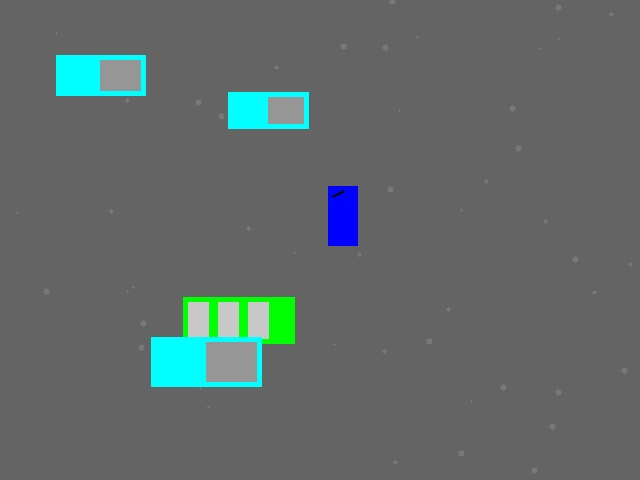bus: (183, 297, 294, 343)
motorcycle: (328, 186, 357, 245)
truck: (151, 337, 261, 386), (56, 55, 145, 95), (228, 92, 308, 128)
